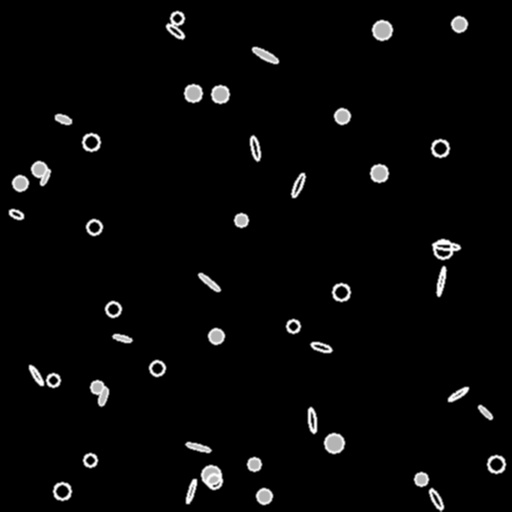pseudomonas: (197, 271, 221, 293), (251, 46, 279, 64), (290, 173, 306, 197), (165, 22, 185, 40), (428, 488, 444, 510), (28, 364, 44, 386), (447, 386, 469, 402), (249, 135, 261, 161), (185, 478, 197, 504), (186, 441, 210, 453), (436, 267, 446, 295), (433, 241, 459, 251), (477, 404, 493, 420), (311, 341, 331, 353), (307, 408, 317, 432), (97, 386, 109, 406), (54, 113, 72, 125), (39, 168, 51, 186), (8, 208, 24, 220), (113, 333, 131, 343)
synechocystis: (325, 434, 343, 452), (373, 21, 391, 39), (202, 466, 220, 484), (434, 240, 452, 258), (54, 483, 70, 499), (333, 284, 349, 300), (488, 456, 504, 472), (371, 165, 387, 181), (212, 86, 228, 102), (432, 140, 448, 156), (83, 134, 99, 150), (185, 85, 201, 101), (335, 109, 349, 123), (452, 17, 466, 31), (32, 162, 46, 176), (209, 329, 223, 343), (150, 361, 164, 375), (257, 489, 271, 503), (207, 474, 221, 488), (106, 302, 120, 316), (13, 176, 27, 190), (87, 220, 101, 234), (91, 381, 103, 393), (415, 473, 427, 485), (248, 458, 260, 470), (171, 12, 183, 24), (287, 320, 299, 332), (84, 454, 96, 466), (235, 214, 247, 226), (47, 374, 59, 386)
